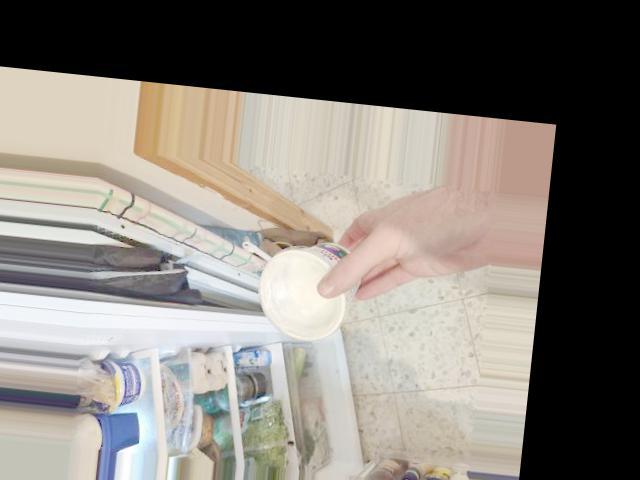cotage: (250, 222, 373, 348)
